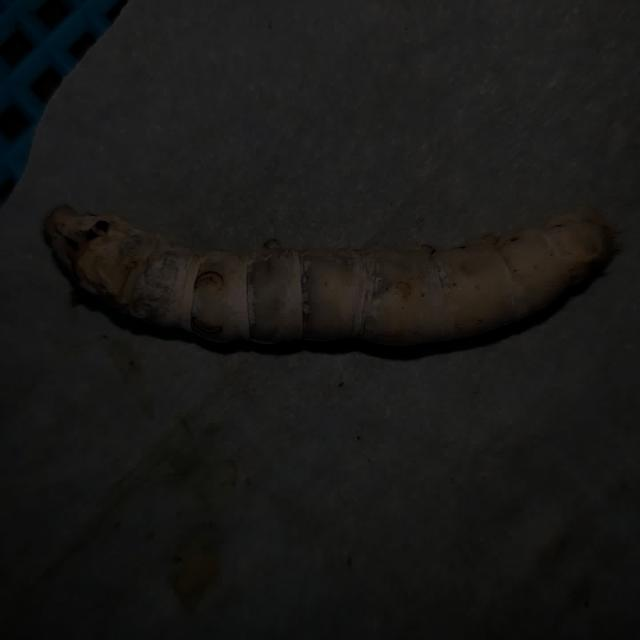Grasserie: (27, 186, 626, 366)
